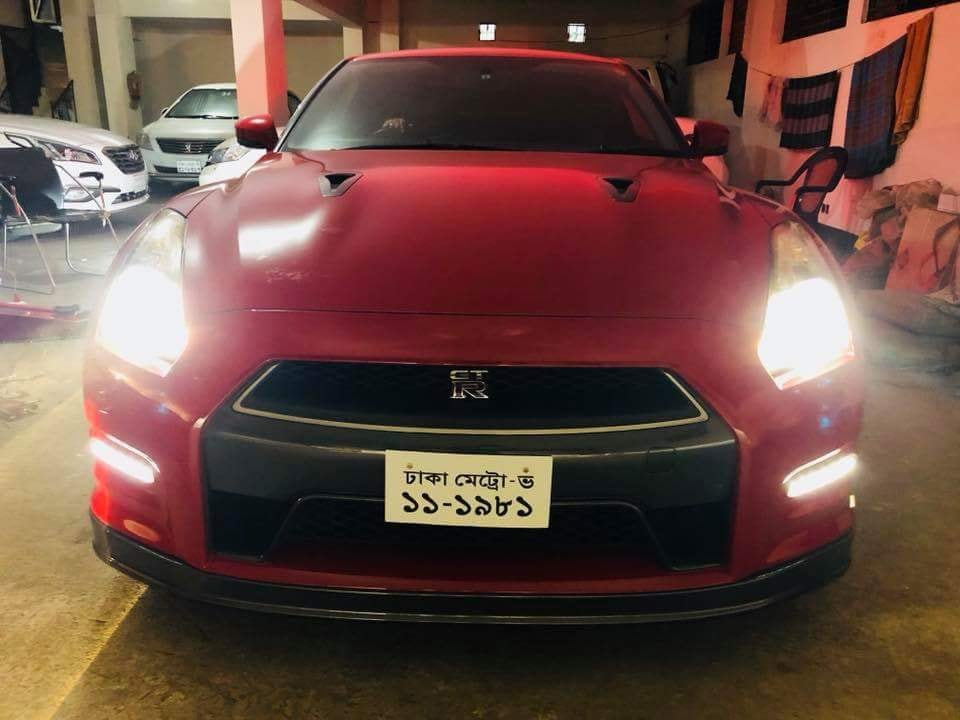registration_plate: (383, 447, 553, 530)
